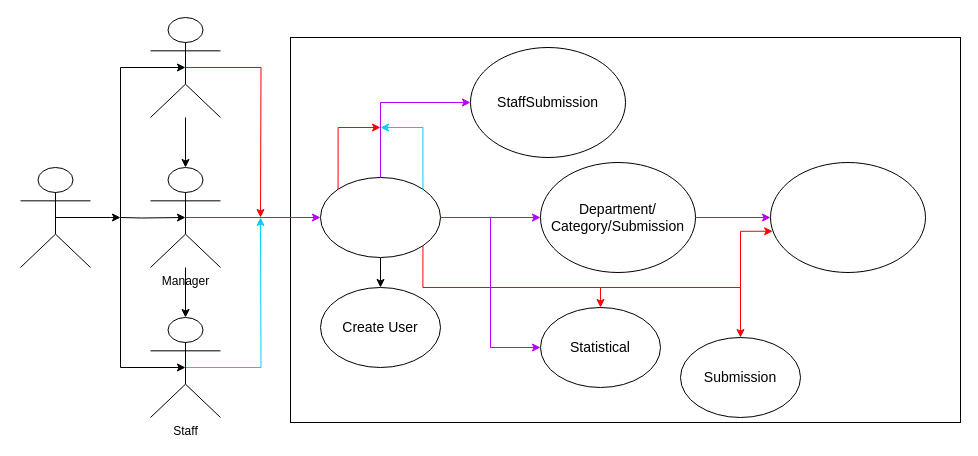
Image size: 978x456. Some labels were removed from this diagram. The centre of each missing label's shape, as x and y in pixels:
Administration: point 55,217
Coordinator: point 185,67
Create/Edit/Delete: point 848,217
Login: point 380,217
